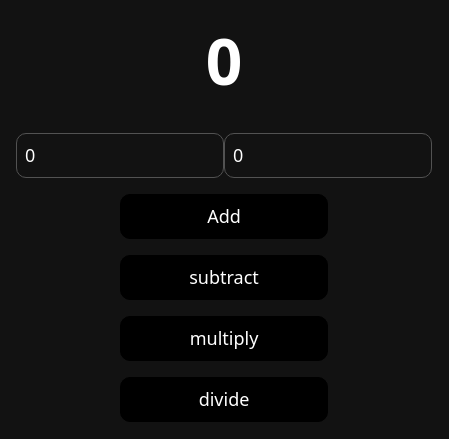
Test: Calculator › multiplies to number
Replace the text in the number field with test id "num1" with "5" at (120, 155), box [16,132,224,178]
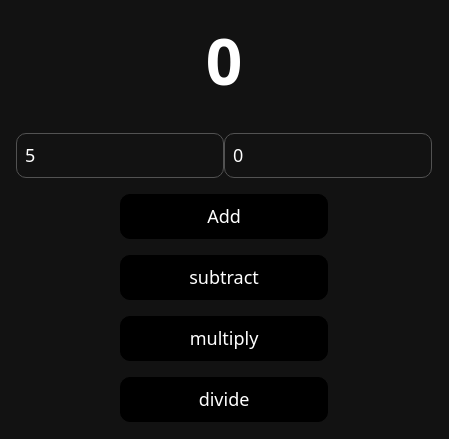
Replace the text in the number field with test id "num2" with "8" at (328, 155), box [224,132,432,178]
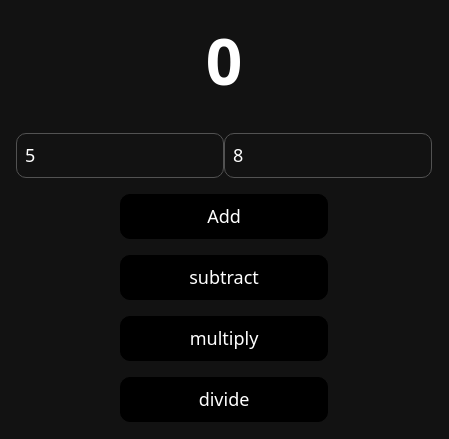
Click the button with test id "multiply" at (224, 338), box [120,316,328,360]
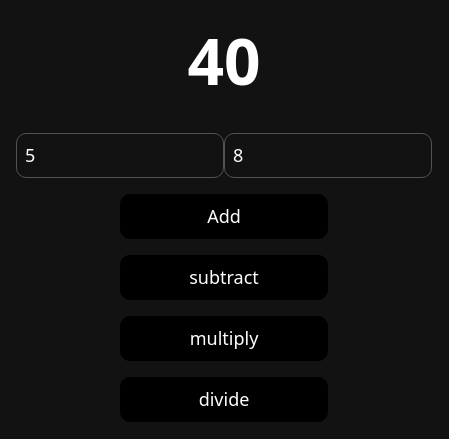
Now the text with test id "result" reads "40", box [187,16,261,104]
